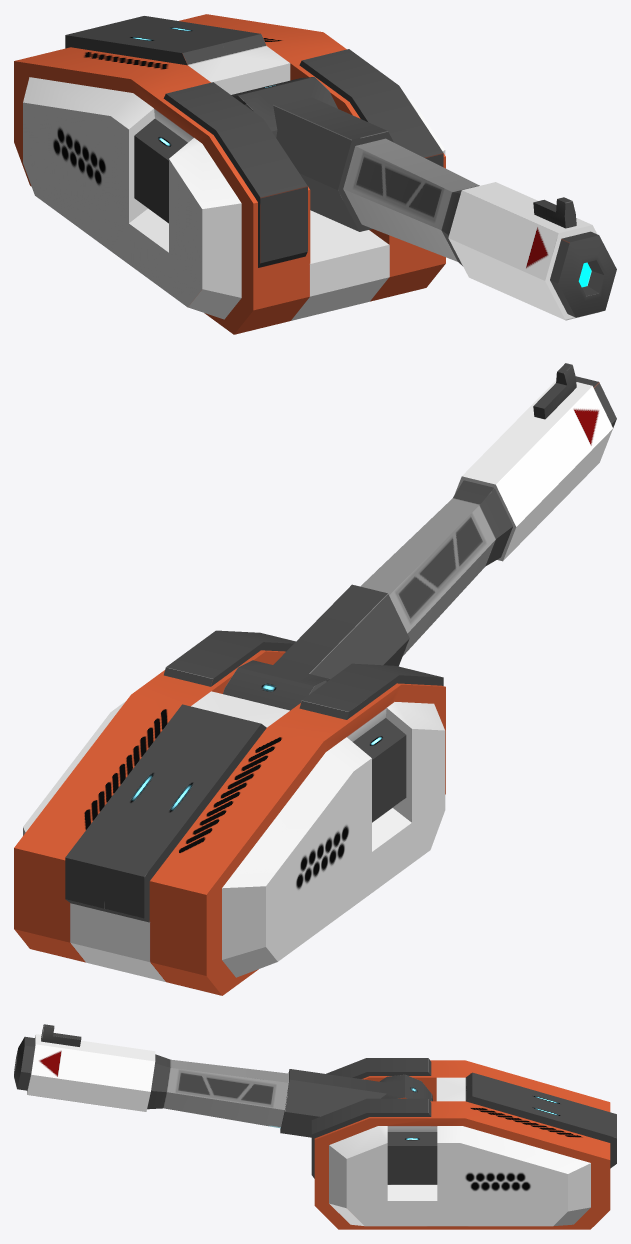
File: cannon.fbx
The picture shows the model from 3 angles, top to bottom: view 1: azimuth 30°, elevation 25°; view 2: azimuth 150°, elevation 25°; view 3: azimuth 270°, elevation 25°; orthographic projection. The views are drawn at different scales.
Visible parts, largest first — view 1: cannon; view 2: cannon; view 3: cannon.
Boxes of the visible parts, x1,y1,x2,y2 form: cannon: (14, 14, 616, 334); cannon: (14, 363, 616, 995); cannon: (14, 1024, 616, 1229).
Size of the model in its own units: 176 by 196 by 611.
